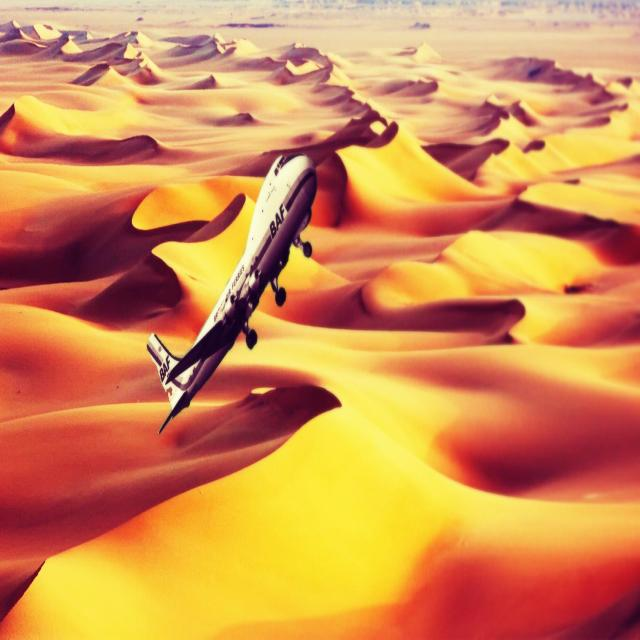airplane: (146, 150, 317, 435)
